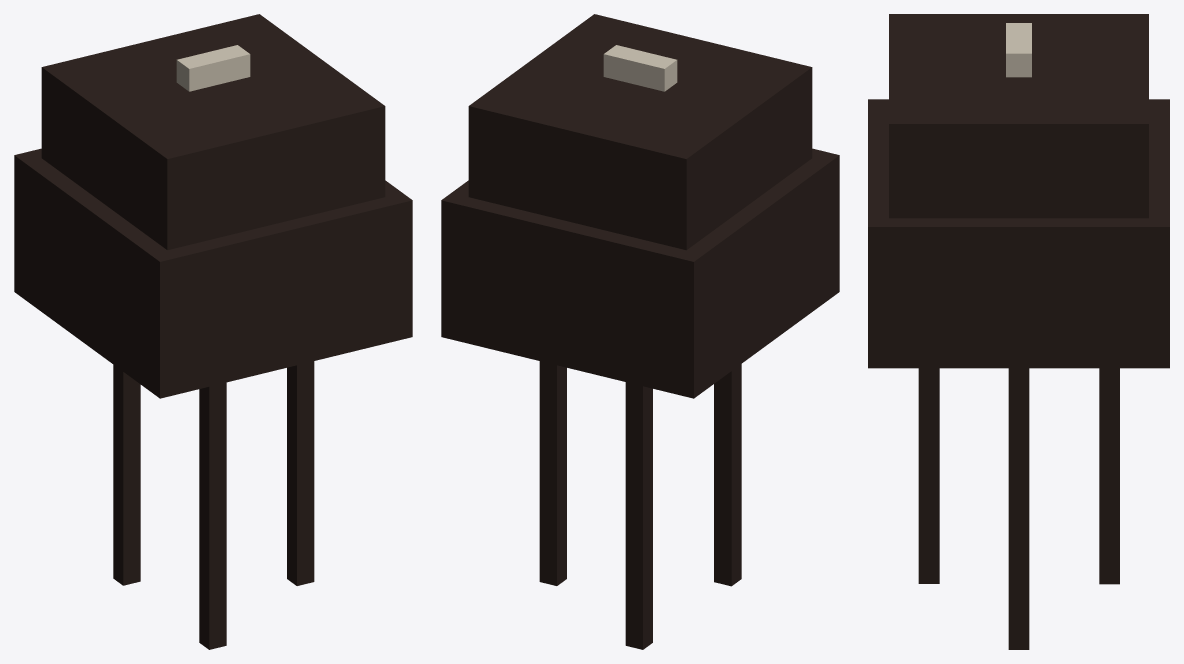
File: grill.glb
The picture shows the model from 3 angles, left to right: view 1: azimuth 30°, elevation 25°; view 2: azimuth 150°, elevation 25°; view 3: azimuth 270°, elevation 25°; orthographic projection. The views are drawn at different scales.
Parts seen in each view (by area): view 1: Box4, Box5, Box2, Box1, Box3, Box6; view 2: Box4, Box5, Box3, Box1, Box2, Box6; view 3: Box5, Box4, Box1, Box2, Box3, Box6.
Part boxes in pixels (box(x1,y1,x2,y2)): Box4: box(14, 148, 412, 398); Box5: box(41, 14, 385, 250); Box2: box(199, 382, 226, 649); Box1: box(287, 361, 314, 585); Box3: box(113, 365, 140, 585); Box6: box(176, 45, 250, 91); Box4: box(441, 148, 839, 398); Box5: box(468, 14, 812, 250); Box3: box(625, 382, 652, 649); Box1: box(539, 361, 566, 585); Box2: box(714, 364, 741, 586); Box6: box(603, 45, 677, 91); Box5: box(889, 14, 1148, 218); Box4: box(868, 99, 1169, 368); Box1: box(1008, 368, 1029, 649); Box2: box(918, 368, 939, 583); Box3: box(1099, 368, 1119, 584); Box6: box(1006, 23, 1031, 77).
Size of the model in its own units: 0.58 by 1.19 by 0.58.
